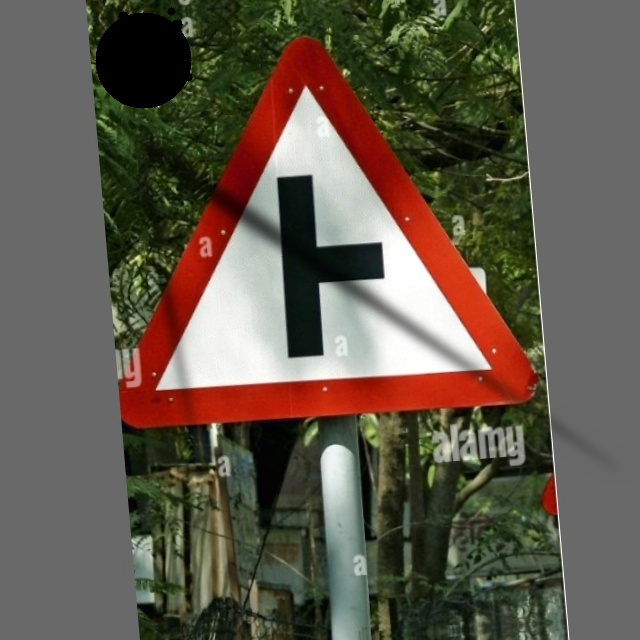Side_Road_Right: (127, 23, 526, 435)
